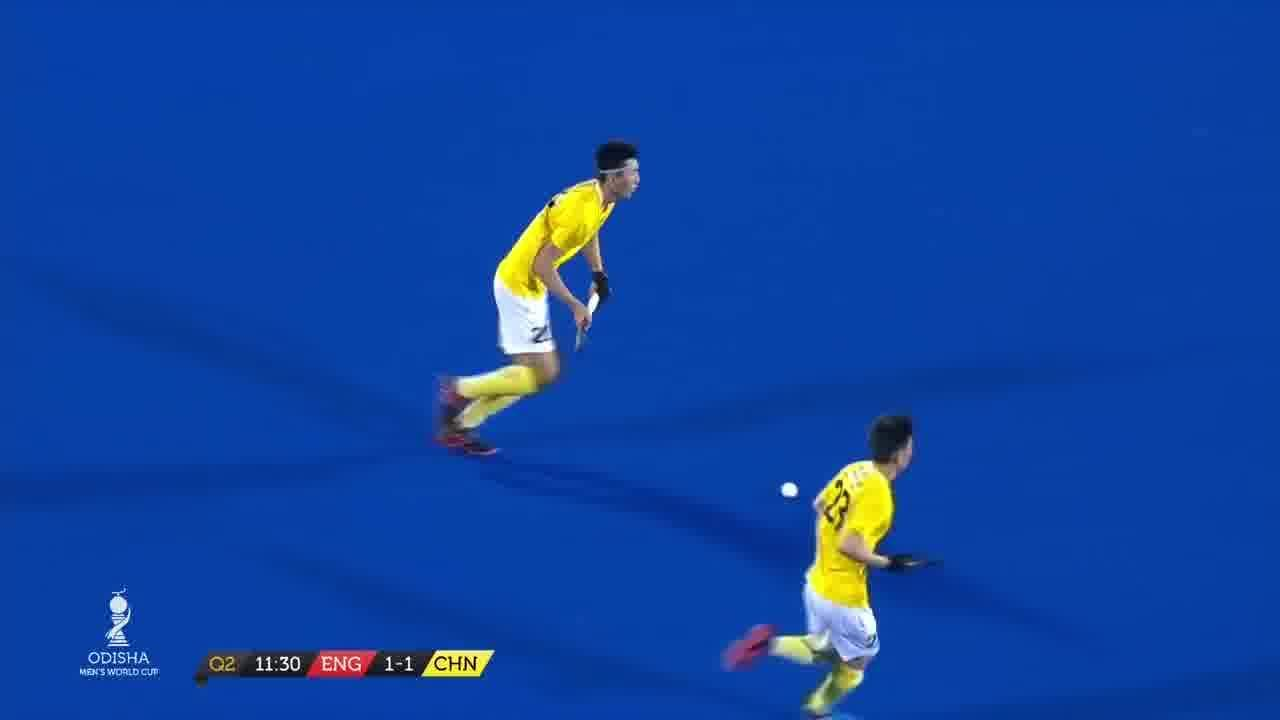ball: (780, 476, 806, 498)
